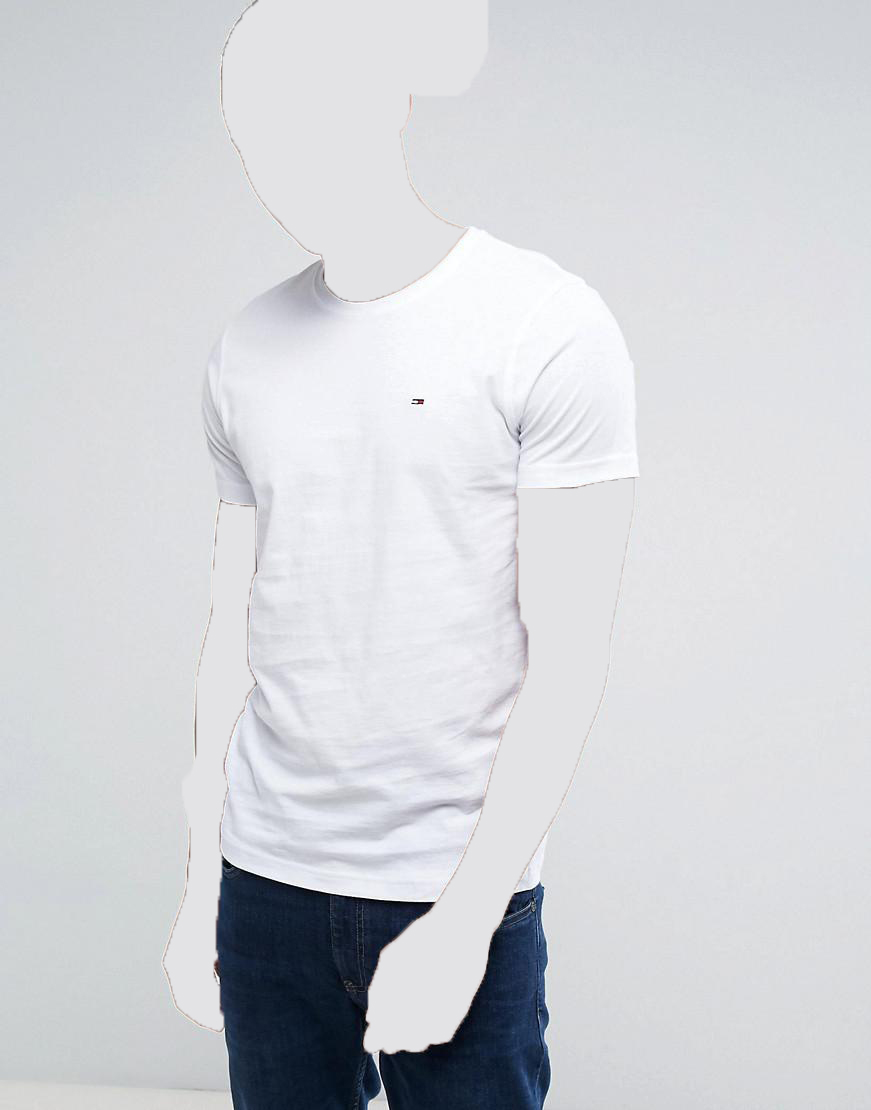teeshirt: (190, 224, 647, 912)
